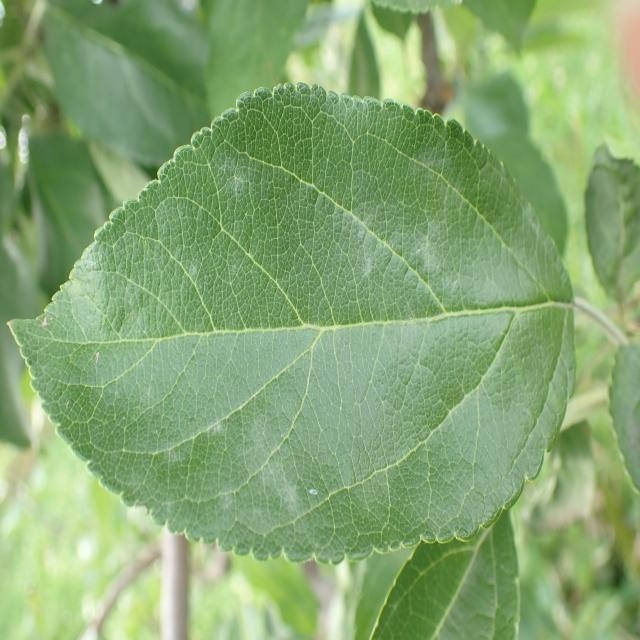Powdery_mildew: (37, 132, 566, 561)
